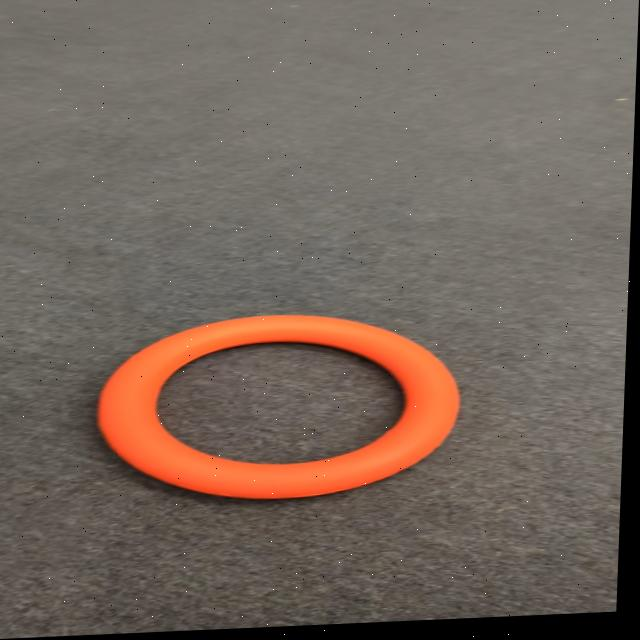note: (87, 308, 466, 503)
